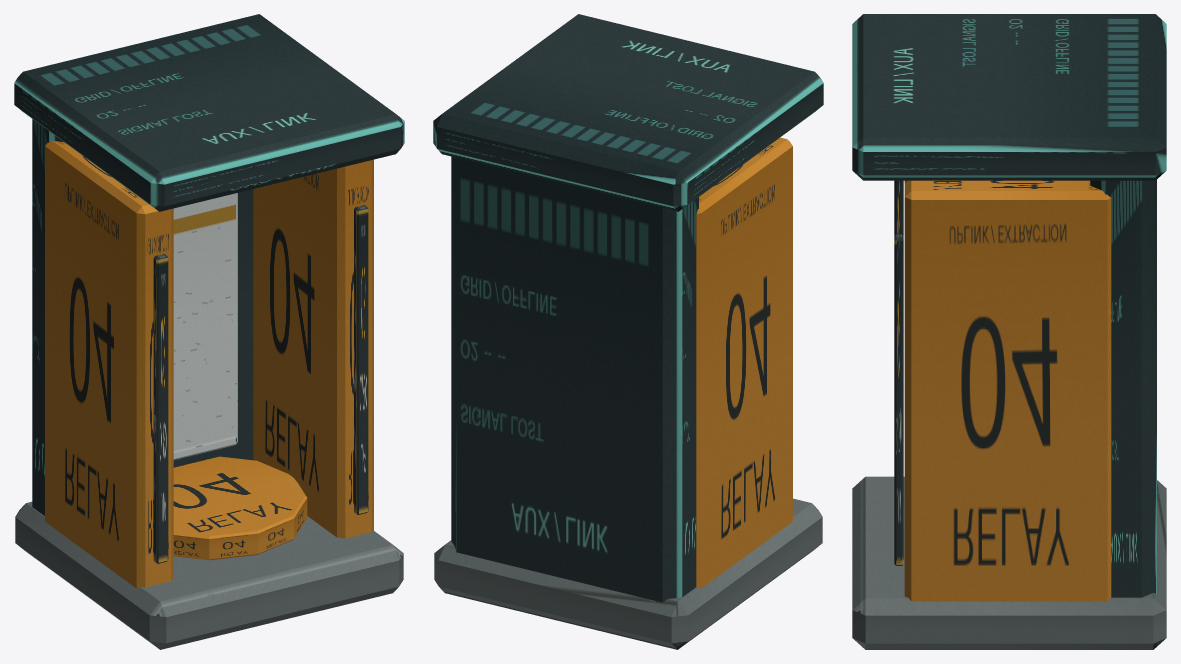
The model's file is purification_pod_LOD1.obj.
The picture shows the model from 3 angles, left to right: view 1: azimuth 30°, elevation 25°; view 2: azimuth 150°, elevation 25°; view 3: azimuth 270°, elevation 25°; orthographic projection. The views are drawn at different scales.
Parts seen in each view (by area): view 1: L02_purification_pod_LOD1; view 2: L02_purification_pod_LOD1; view 3: L02_purification_pod_LOD1.
Boxes of the visible parts, x1,y1,x2,y2 form: L02_purification_pod_LOD1: [14, 14, 404, 649]; L02_purification_pod_LOD1: [433, 14, 823, 649]; L02_purification_pod_LOD1: [852, 14, 1166, 649].
Bounding box in the file's own units: 1.65 × 2.97 × 1.65.
Materials: 1 (1 with a texture image).
